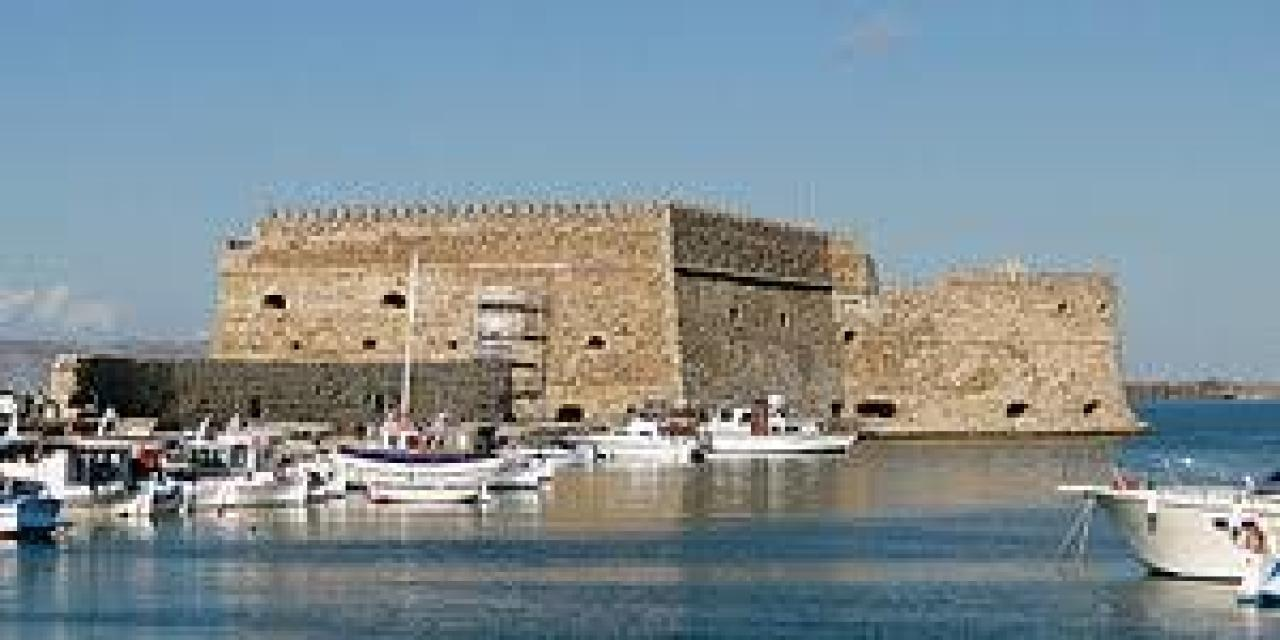Kules: (215, 178, 1151, 436)
